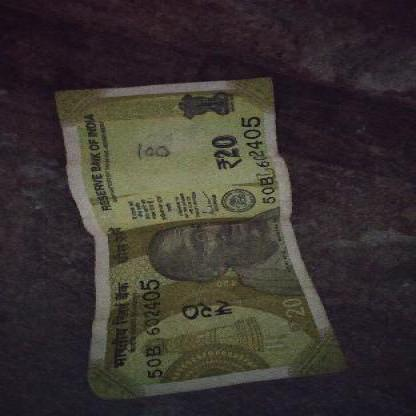New20Front: (87, 75, 296, 386)
